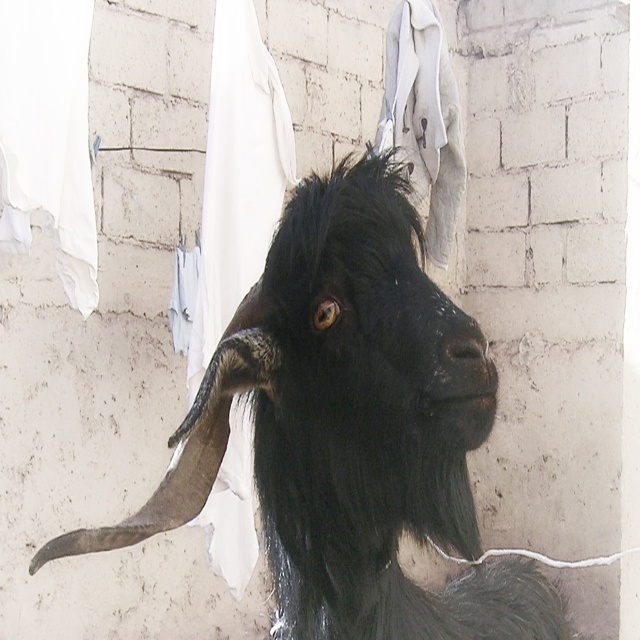Goat: (21, 130, 522, 610)
